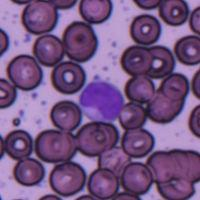M: (78, 76, 124, 123)
